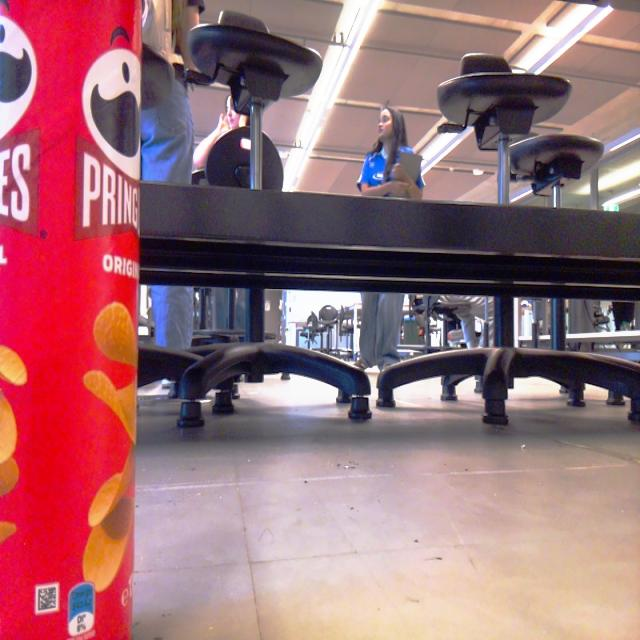redpringles: (1, 0, 177, 640)
